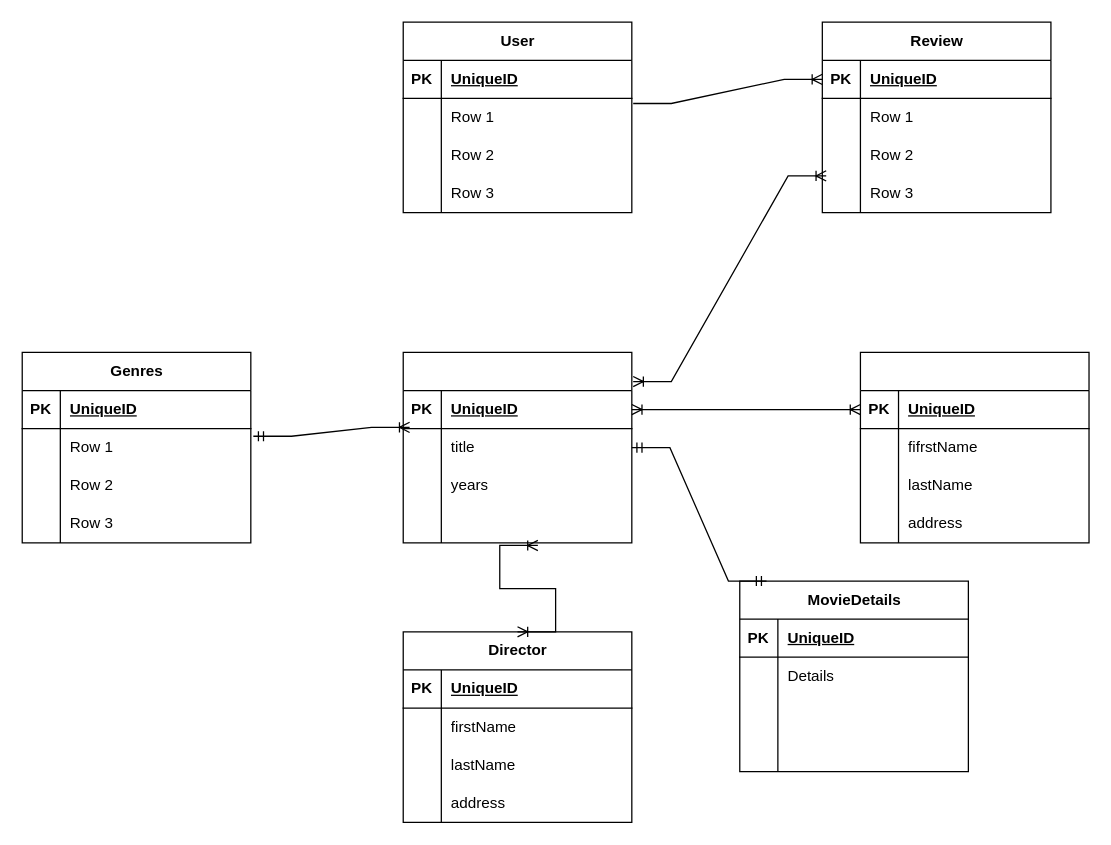
This 1111x845 diagram has some shape labels left out. The shapes that lost their labels are listed below. From the top down, each one's box as (x1, y1, x2, y2) in pixels, then its label:
(402, 351, 632, 543): Movie
(859, 351, 1089, 543): Actor
